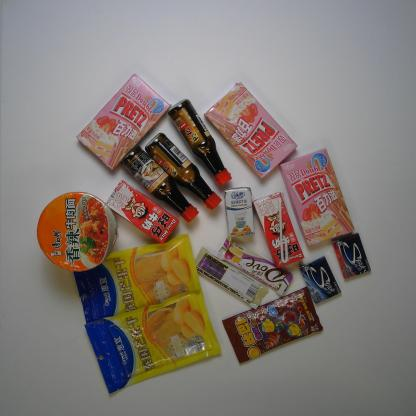Candy: (214, 282, 330, 367)
Chocolate: (191, 244, 271, 314), (218, 237, 294, 294)
Dessert: (74, 69, 174, 176), (203, 75, 300, 182), (275, 145, 358, 249)
Dried Fruit: (82, 287, 225, 398), (65, 230, 204, 322)
Gum: (298, 253, 343, 308), (328, 228, 373, 282)
Instant Noodles: (28, 185, 114, 274)
Milk: (99, 176, 180, 247), (251, 188, 306, 269), (222, 182, 256, 244)
Seasoner: (139, 124, 225, 211), (164, 91, 235, 190), (120, 141, 200, 223)
